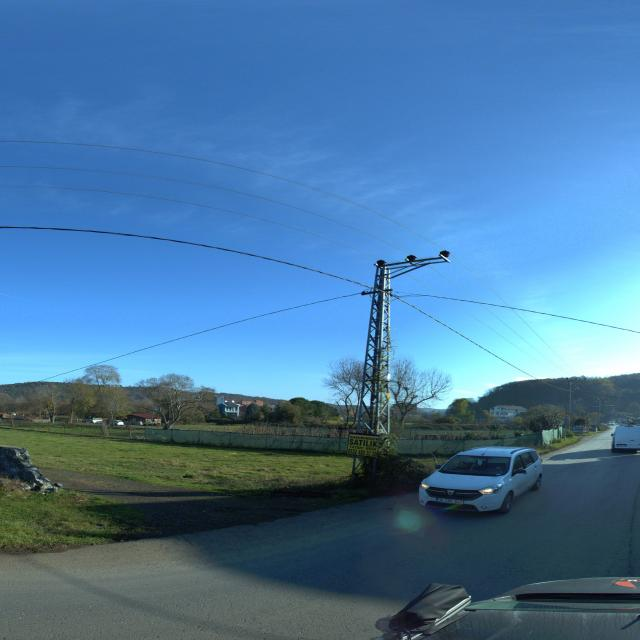Utility Pole Information Plate: (386, 393, 391, 399)
